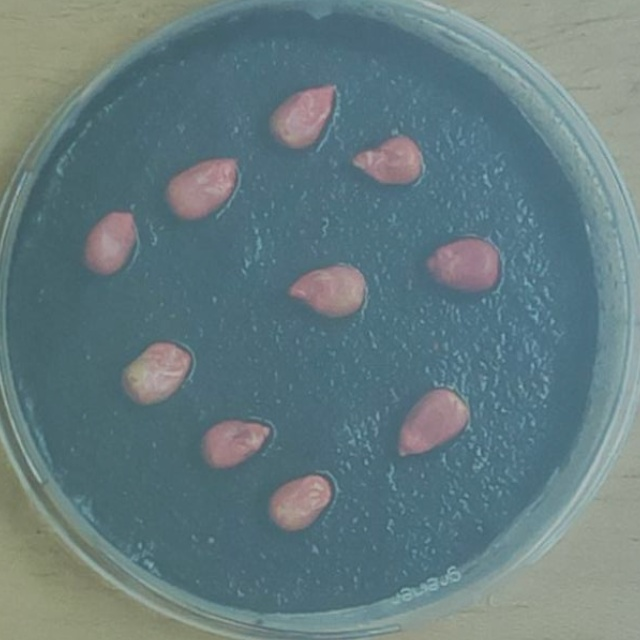Zea mays: (387, 381, 475, 468), (156, 148, 246, 231), (259, 73, 343, 158), (415, 231, 509, 304), (112, 335, 198, 414), (276, 258, 370, 327), (258, 465, 340, 541), (71, 205, 144, 286), (191, 412, 278, 479), (343, 130, 427, 196)
